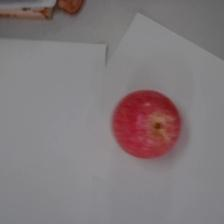red: (110, 88, 183, 160)
